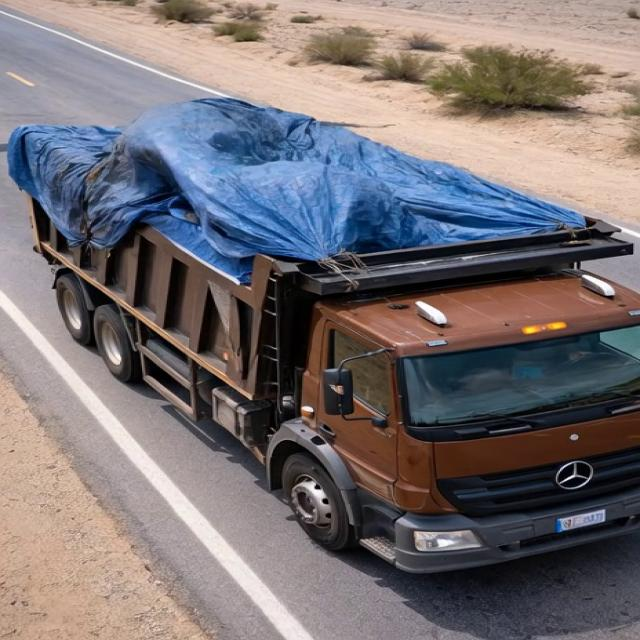trailer: (20, 95, 629, 274)
truck: (11, 57, 634, 601)
